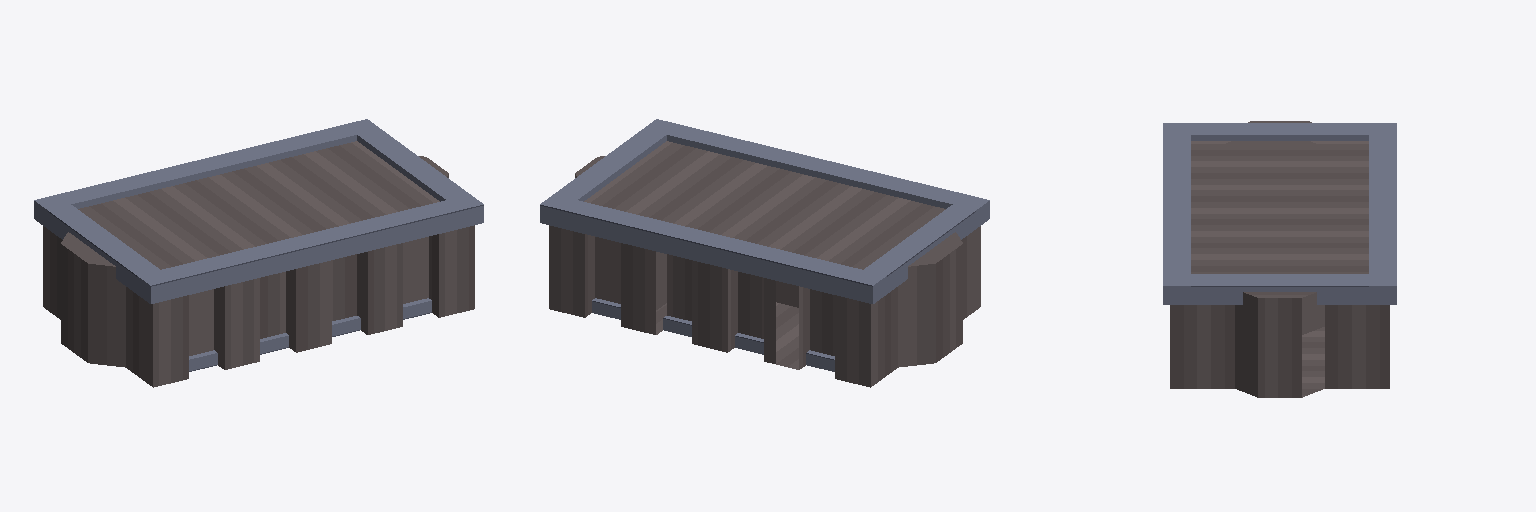
3 renders of one model, left to right at view 1: azimuth 30°, elevation 25°; view 2: azimuth 150°, elevation 25°; view 3: azimuth 270°, elevation 25°, orthographic.
Visible parts, largest first — view 1: cuboid; view 2: cuboid; view 3: cuboid.
Part boxes in pixels (x1,y1,x2,y2): cuboid: (34,119,483,387); cuboid: (540,119,989,387); cuboid: (1163,121,1396,397).
Size of the model in its own units: 3.81 by 1.06 by 2.12.
Materials: 2 (2 with a texture image).